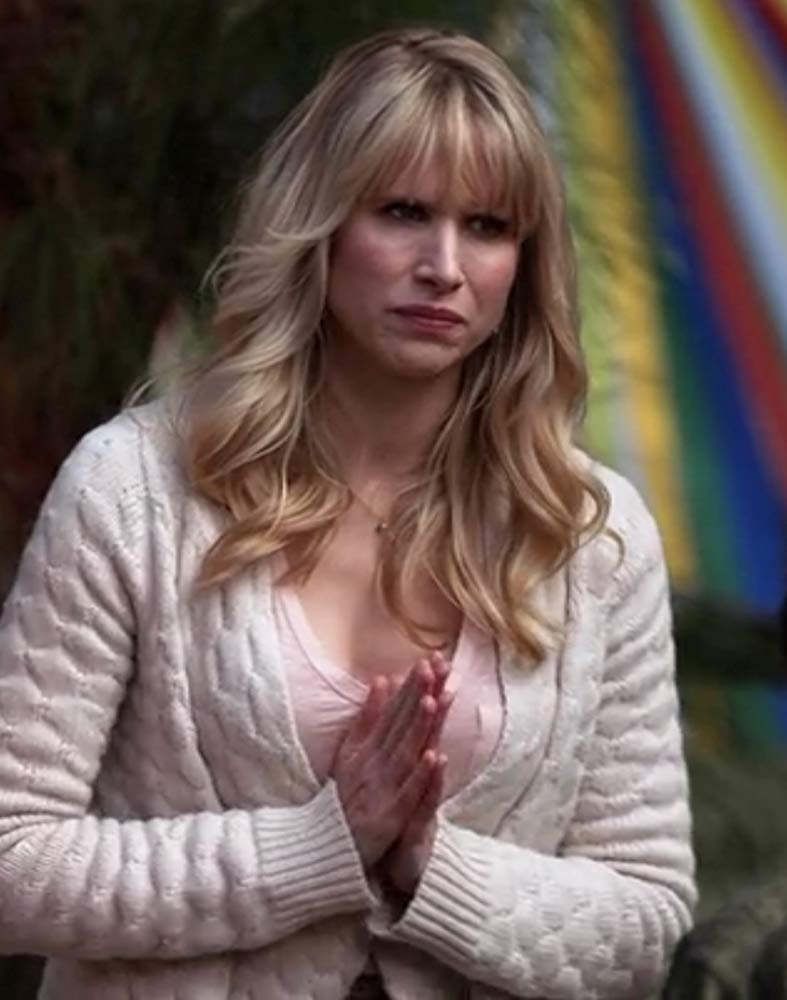person: (38, 22, 681, 1000)
